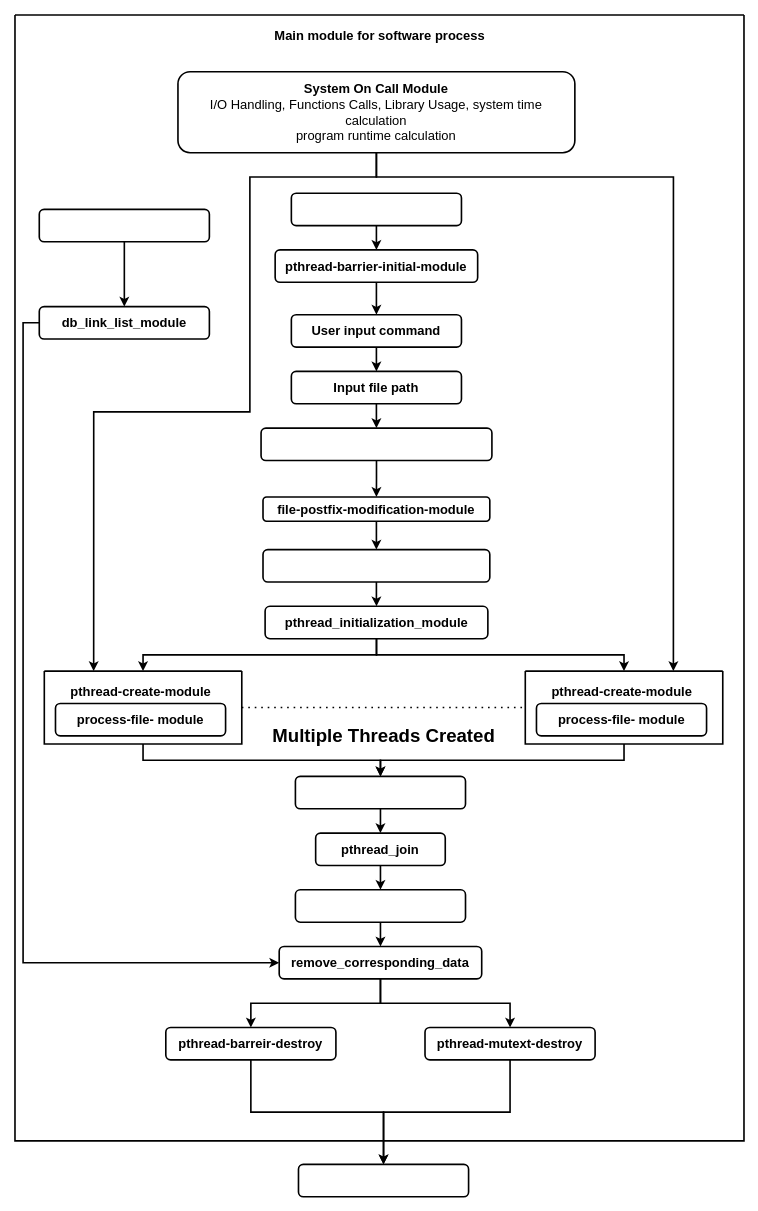
This 758x1211 diagram has some shape labels left out. Each missing label, with the centre of its shape:
"db_loading_module" belongs at pixel 124 225.
"End of the encryption/decryption" belongs at pixel 383 1180.
"file_path_redundancy_remove" belongs at pixel 376 444.
"process-time-calculation" belongs at pixel 380 906.
"pthread-barrier-destroy-module" belongs at pixel 376 565.
"pthread-barrier-wait" belongs at pixel 380 792.
"pthread-mutex-module" belongs at pixel 376 209.
